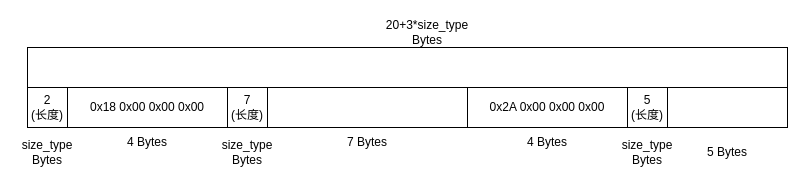
Image size: 805x184. Some labels were removed from this diagram. Here are the shapes that lost their labels. From the top down, the box of each, then its label:
(26, 46, 788, 88): std::map<int,std::string>{{42,"Hello"},{24,"Student"}}
(266, 86, 468, 128): "Student"
(666, 86, 788, 128): "Hello"
